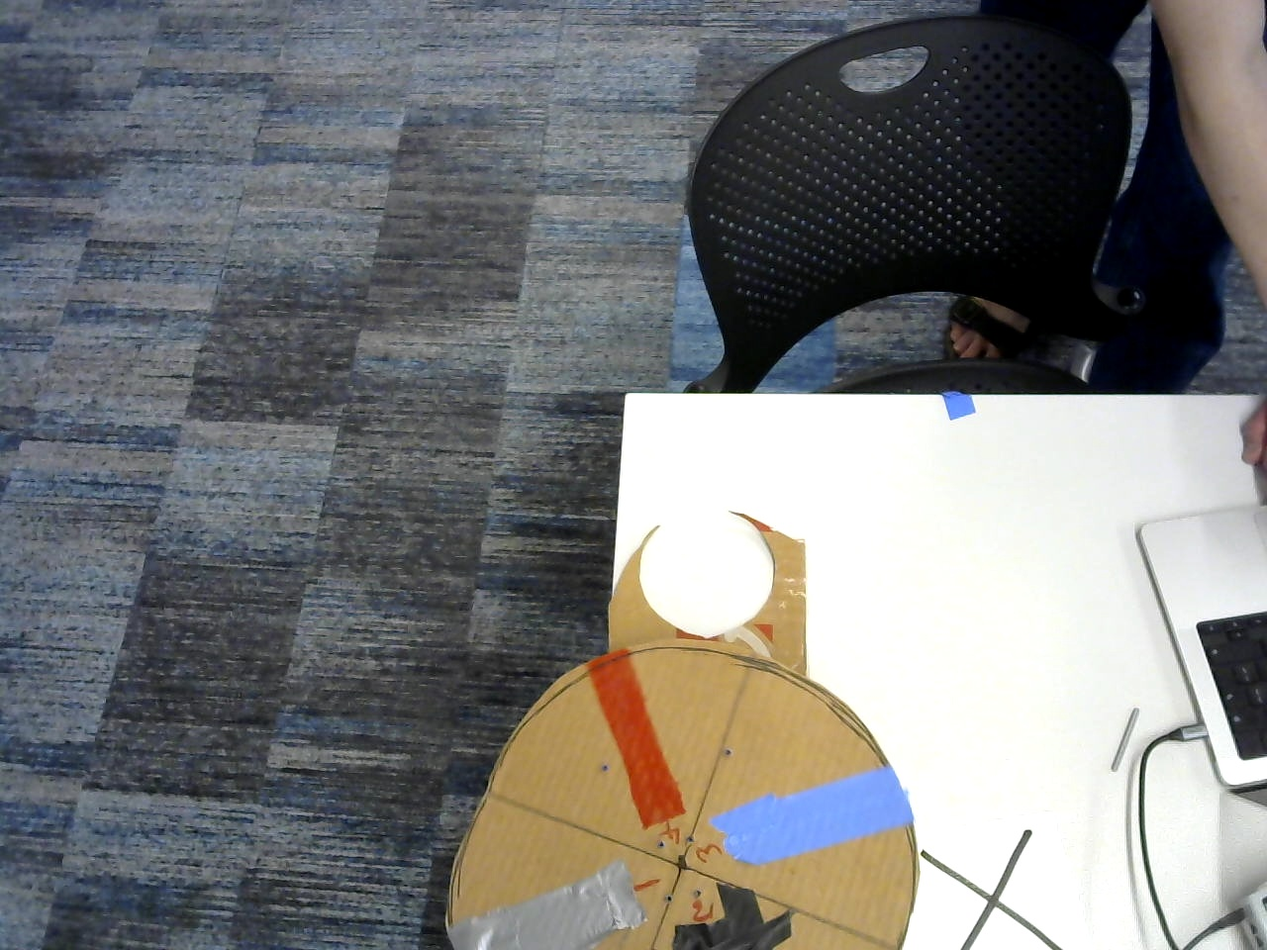black: (668, 886, 792, 950)
blue: (712, 768, 915, 867)
red: (585, 648, 687, 831)
silver: (450, 860, 654, 950)
x: (930, 831, 1049, 950)
